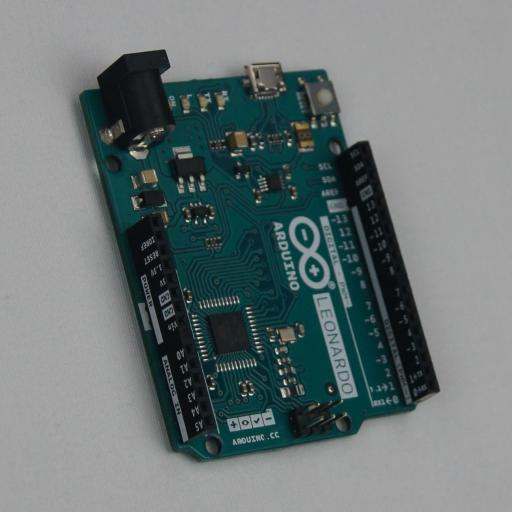Arduino Leonardo: (73, 50, 440, 462)
